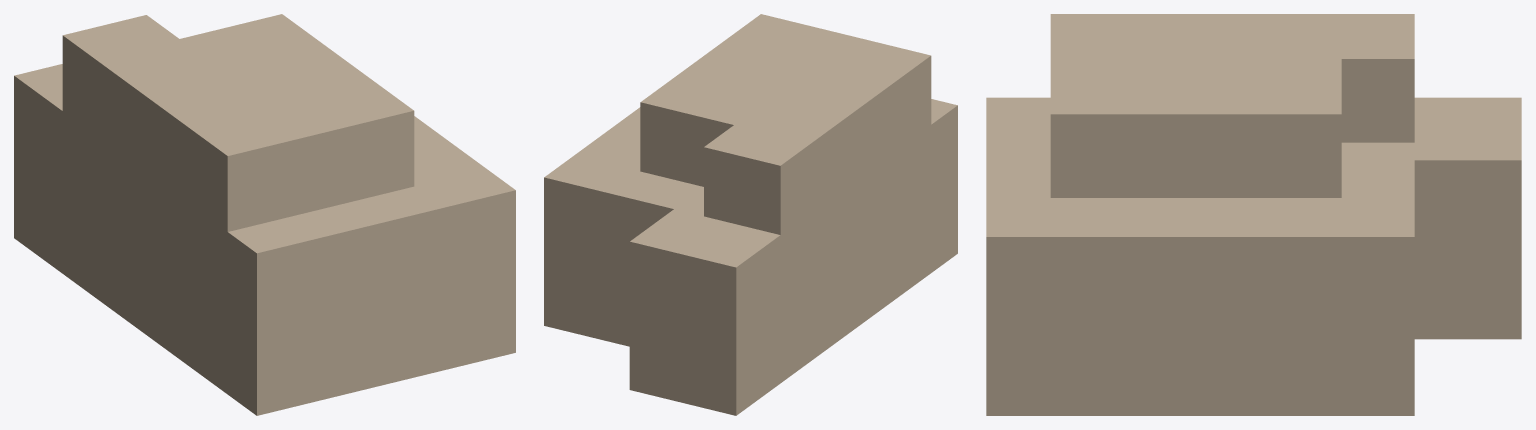
File: massing.glb
3 renders of one model, left to right at view 1: azimuth 30°, elevation 25°; view 2: azimuth 150°, elevation 25°; view 3: azimuth 270°, elevation 25°, orthographic. The views are drawn at different scales.
Parts seen in each view (by area): view 1: building/exterior; view 2: building/exterior; view 3: building/exterior.
Boxes of the visible parts, box(x1,y1,x2,y2) form: building/exterior: box(14, 14, 515, 415); building/exterior: box(544, 14, 957, 415); building/exterior: box(986, 14, 1521, 415).
Size of the model in its own units: 10 by 8.8 by 16.24.
